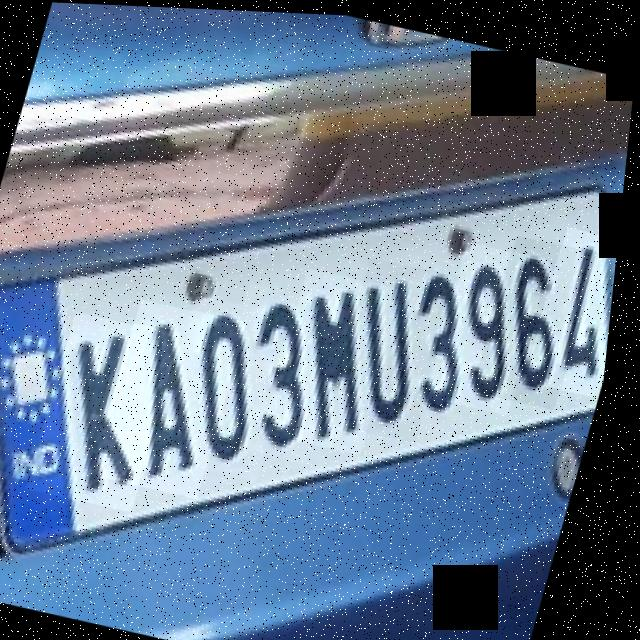0: (197, 302, 272, 468)
3: (250, 291, 321, 453), (416, 260, 480, 417)
4: (567, 230, 610, 385)
6: (517, 239, 567, 397)
9: (467, 246, 521, 403)
A: (141, 306, 214, 485)
K: (78, 321, 149, 500)
M: (306, 276, 375, 441)
U: (369, 262, 430, 429)
